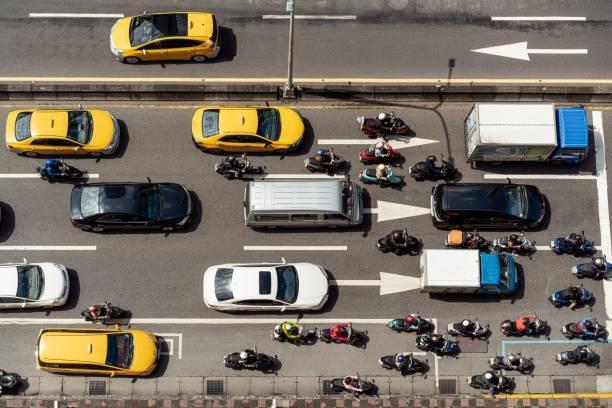Motorcycle: (407, 151, 465, 186), (362, 105, 412, 141), (221, 346, 281, 376), (83, 298, 134, 328), (324, 367, 374, 396), (358, 135, 410, 161), (379, 228, 425, 257), (364, 161, 413, 188), (496, 319, 550, 343), (380, 354, 424, 382), (382, 310, 429, 336), (552, 284, 598, 310), (573, 254, 612, 284), (448, 228, 501, 250), (564, 314, 605, 342), (216, 154, 265, 176), (472, 372, 519, 394), (313, 148, 356, 172), (270, 322, 315, 344), (557, 348, 606, 368), (416, 332, 454, 354), (326, 320, 362, 342), (550, 232, 592, 250), (36, 162, 83, 177), (502, 234, 534, 256), (456, 314, 484, 338), (494, 357, 526, 372)
